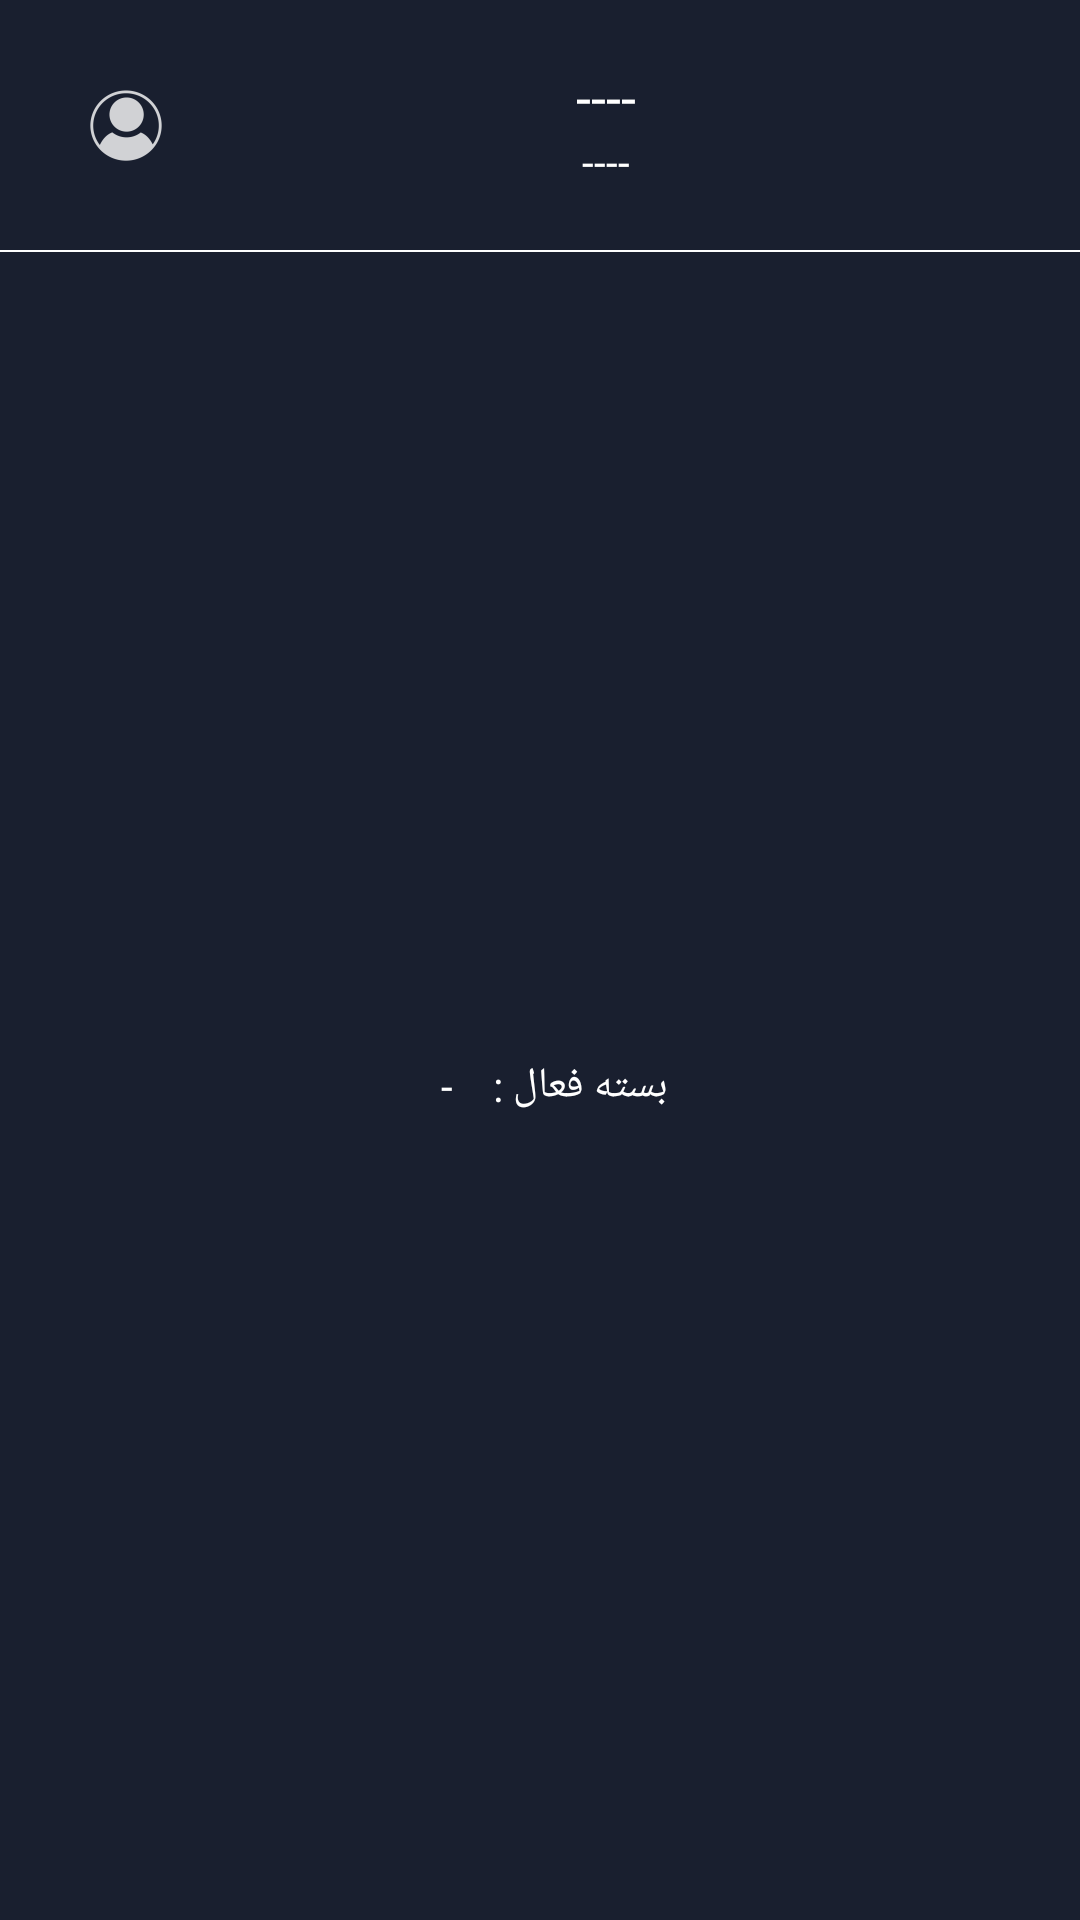

Where to tap for icons on this 1080 × 1920 app screen, as [x,y]:
user: [126,125]
